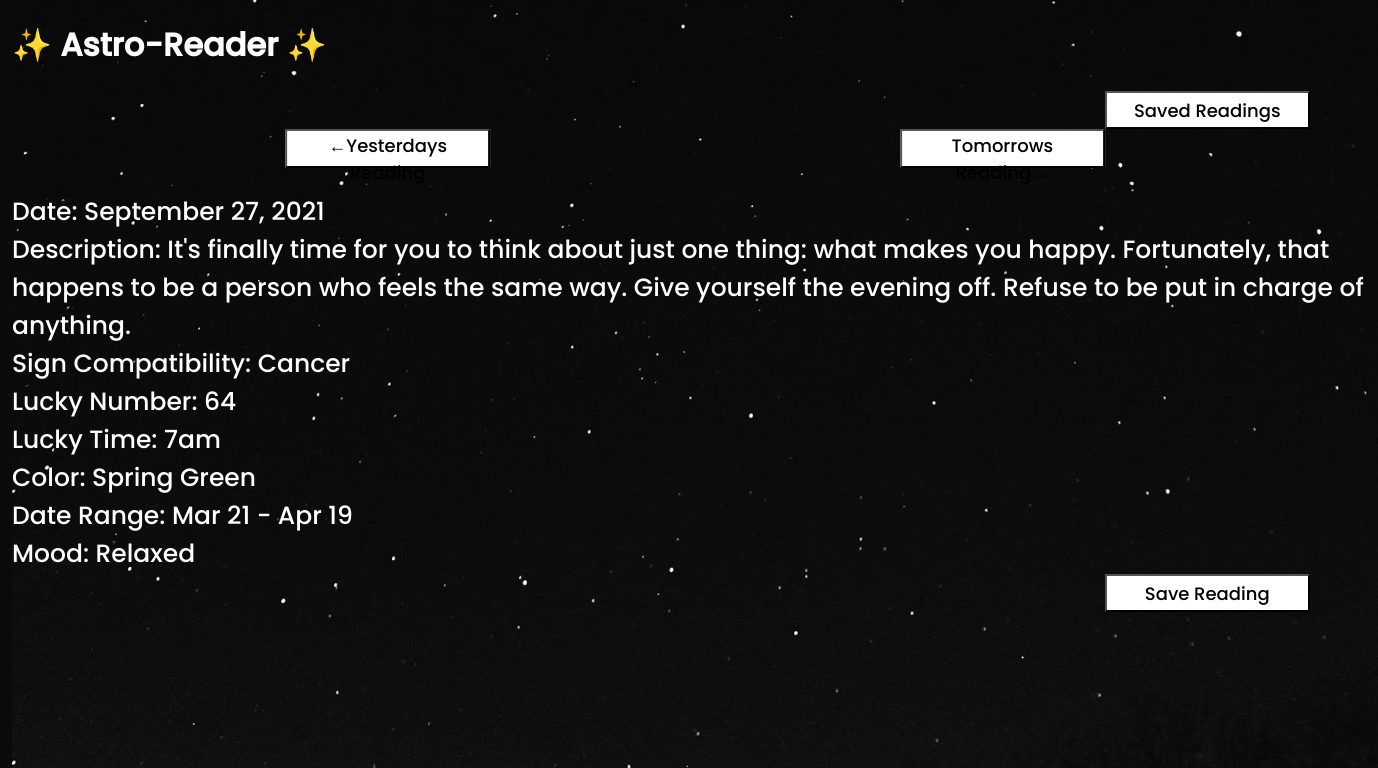
Test: Users Zodiac Horoscope Reading Pages › Show todays reading › Should be able to click yesterdays reading button and display yesterdays reading for the selected Zodiac
Click the button with class "yesterday-btn": {"x": 388, "y": 148} [285,129,490,167]
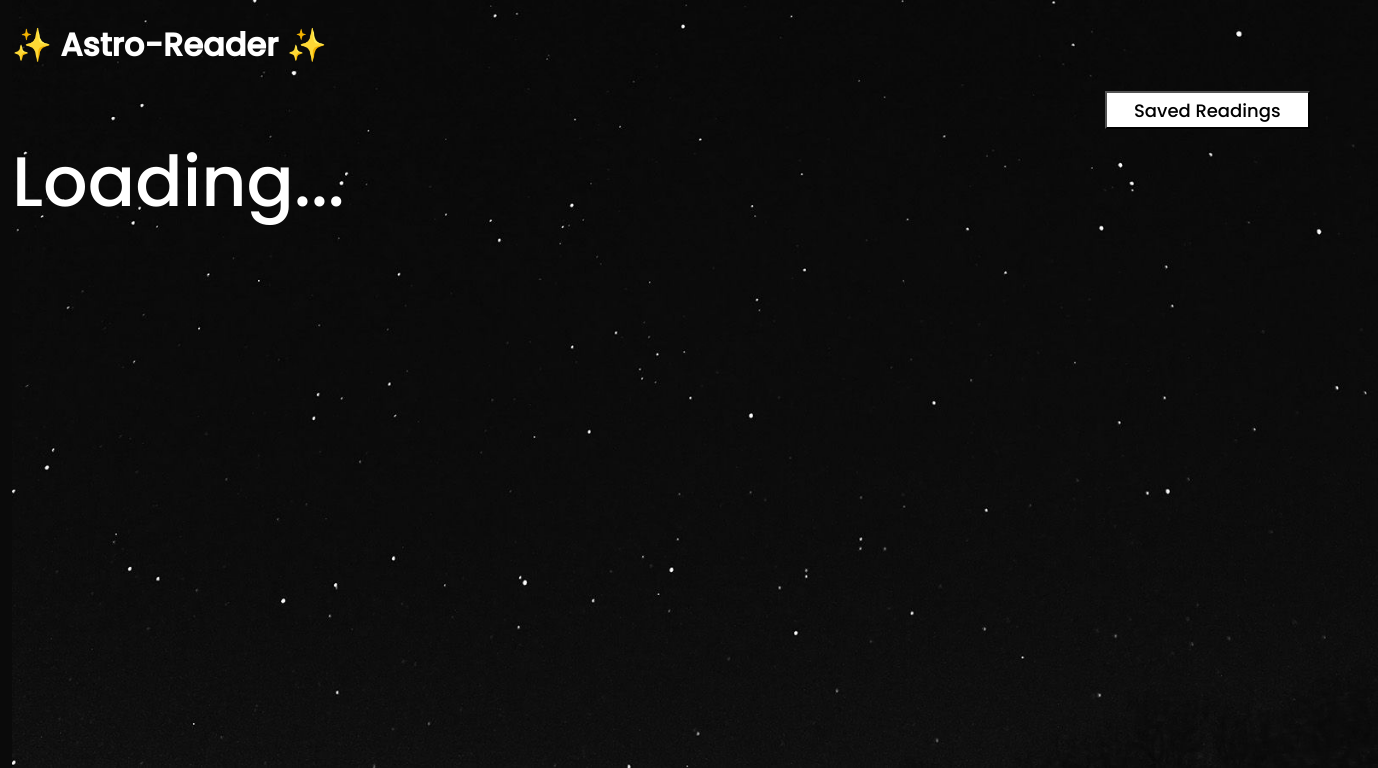
Open "http://localhost:3000/astro-reader/reading/yesterday/aries"
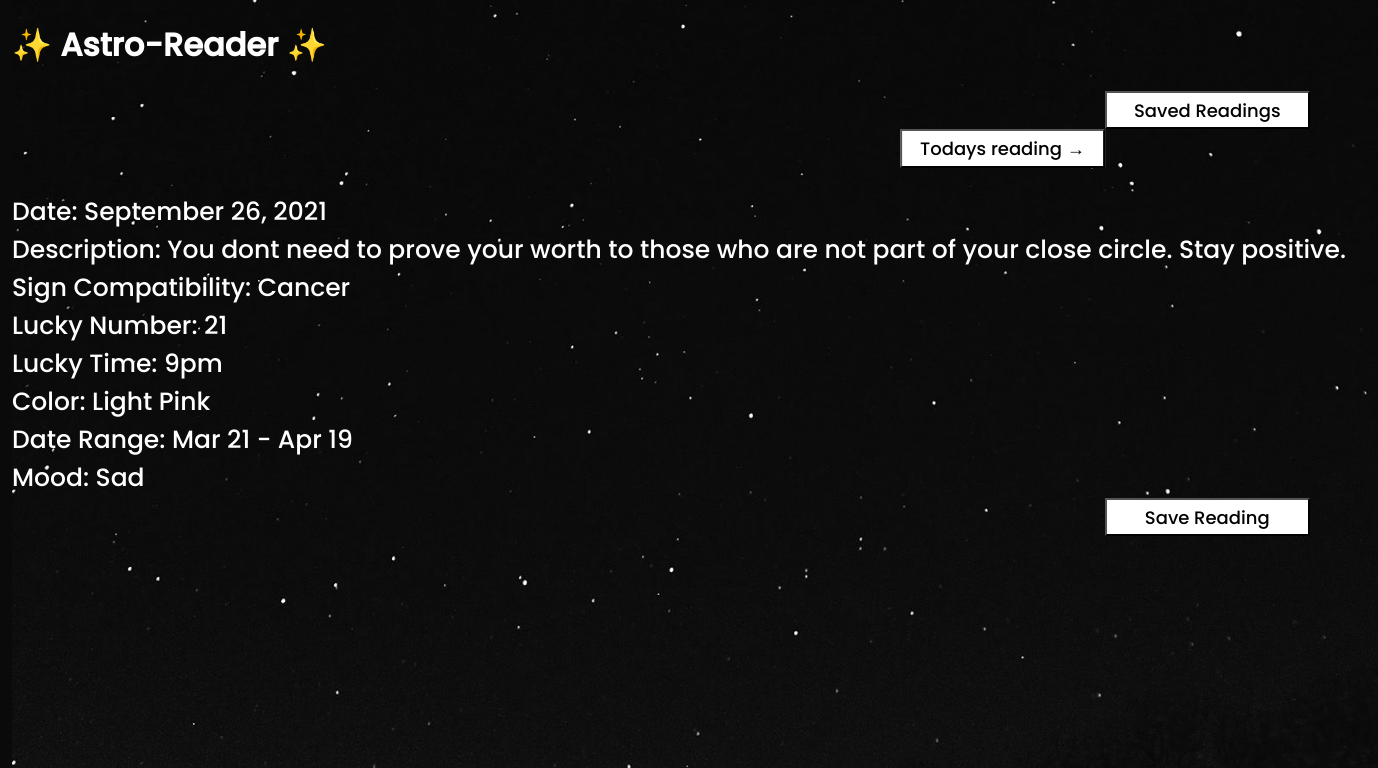
Expected: the element with class "reading-card" shows "Date: September 26, 2021", [12,154,1377,536]
Expected: the element with class "reading-card" shows "You dont need to prove your worth to those who are not part of your close circle. Stay positive.", [167,232,1346,267]
